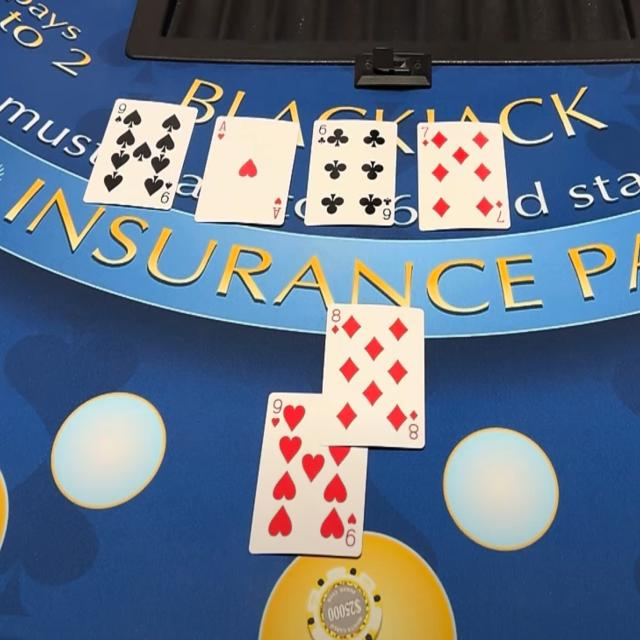6: (316, 122, 328, 137)
7: (420, 126, 430, 140)
8: (330, 306, 343, 324)
9: (270, 396, 283, 416), (117, 100, 127, 116)
A: (217, 119, 230, 133)
